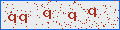q: (8, 14, 16, 24), (88, 8, 96, 17), (68, 12, 76, 21), (43, 10, 51, 19), (19, 14, 27, 23)
